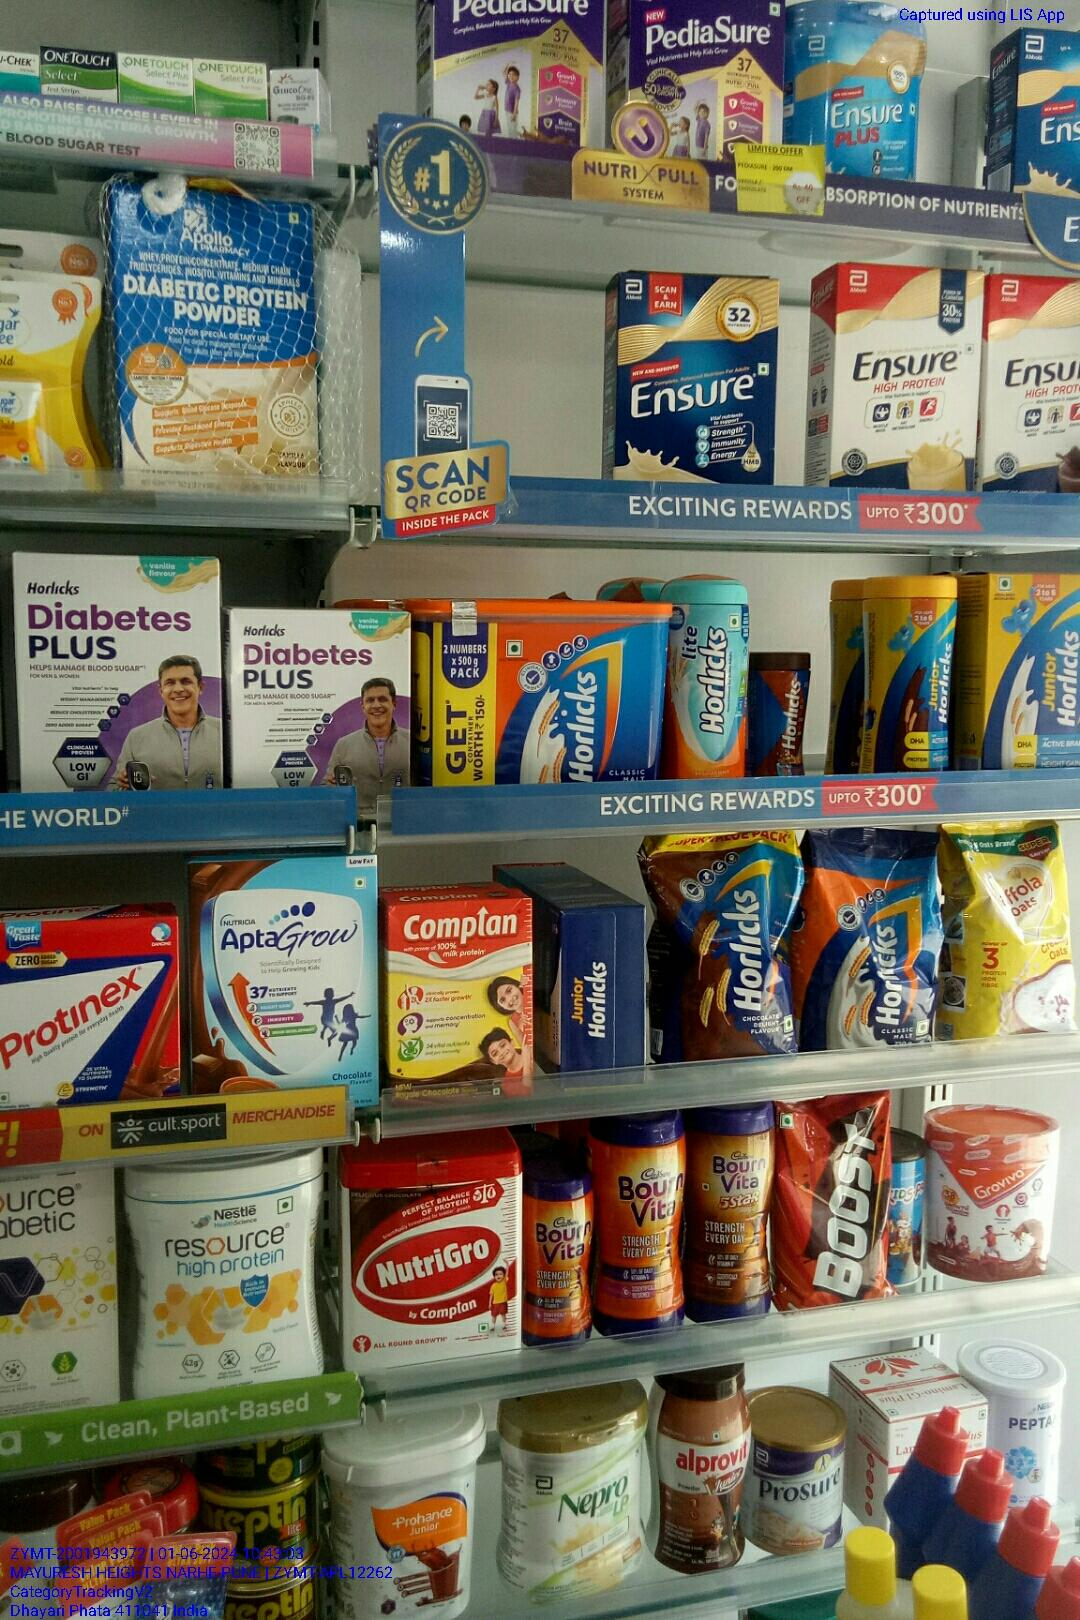BOURN_VITA_200_G_JAR: (527, 1174, 593, 1352)
BOURN_VITA_500_G_JAR: (600, 1117, 688, 1346)
BOURN_VITA_FIVE_STAR_MAGIC_500_G_JAR: (694, 1109, 774, 1330)
COMPLAN_CHOCOLATE_200_GMS_PACK: (392, 904, 530, 1107)
ENSURE_VANILLA_400_G_PACK: (622, 271, 777, 486)
HORLICKS_LITE_REGULAR_MALT_500_GM_JAR: (669, 574, 746, 777)
HORLICK_CHOCOLATE_200_G_JAR: (750, 652, 810, 781)
HORLICK_CHOCOLATE_750_G_POUCH: (661, 829, 794, 1058)
HORLICK_CLASSIC_MALT_750_G_POUCH: (805, 817, 945, 1052)
HORLICK_MALT_1_KG_CONTAINER: (416, 595, 663, 788)
PEDIASURE_CHOCOLATE_500_G_PACK: (436, 1, 607, 153), (632, 1, 780, 162)
